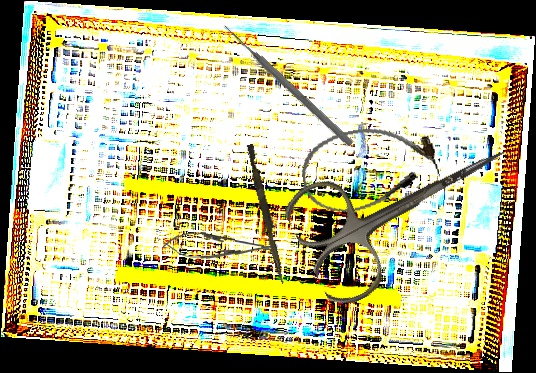Cannula: (295, 115, 444, 221)
Iris Scissors: (277, 98, 534, 313)
Needle Holder: (162, 231, 279, 262)
Pusher: (219, 20, 356, 149), (243, 143, 290, 285)
